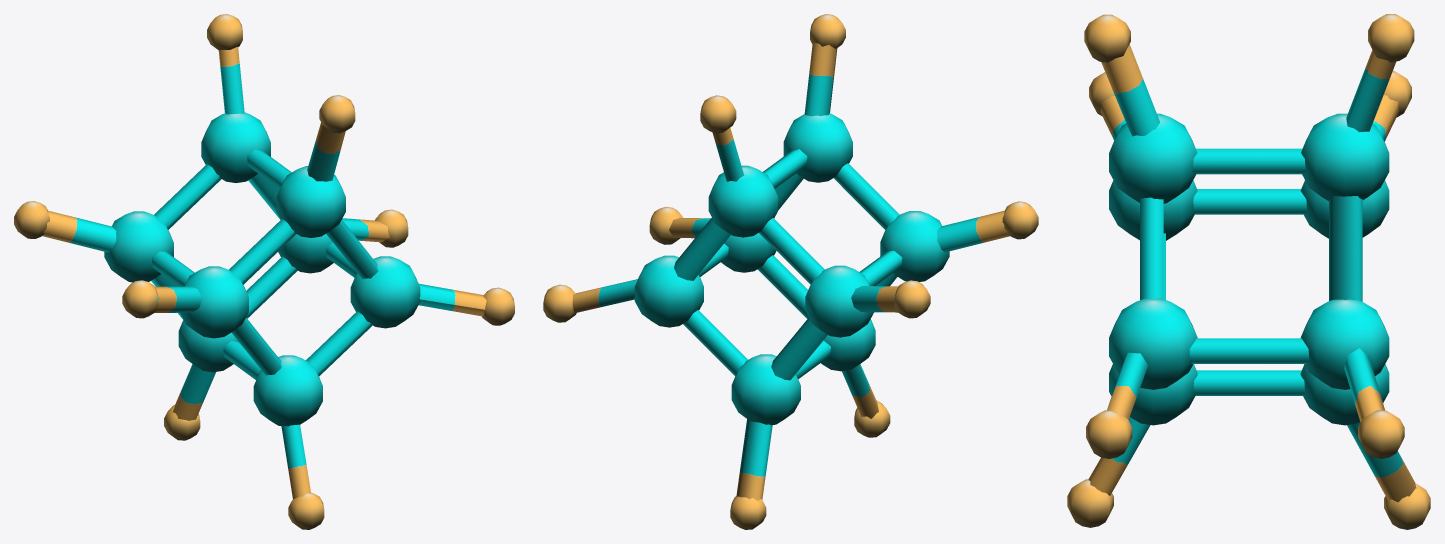
The model's file is Cubane.dae.
3 renders of one model, left to right at view 1: azimuth 30°, elevation 25°; view 2: azimuth 150°, elevation 25°; view 3: azimuth 270°, elevation 25°, orthographic. The views are drawn at different scales.
Visible parts, largest first — view 1: polySurface344; view 2: polySurface344; view 3: polySurface344.
Part boxes in pixels (x1,y1,x2,y2): polySurface344: (14,14,514,529); polySurface344: (543,14,1038,529); polySurface344: (1067,14,1430,529).
Size of the model in its own units: 3.61 by 3.75 by 2.31.
1 material, 1 textured.
